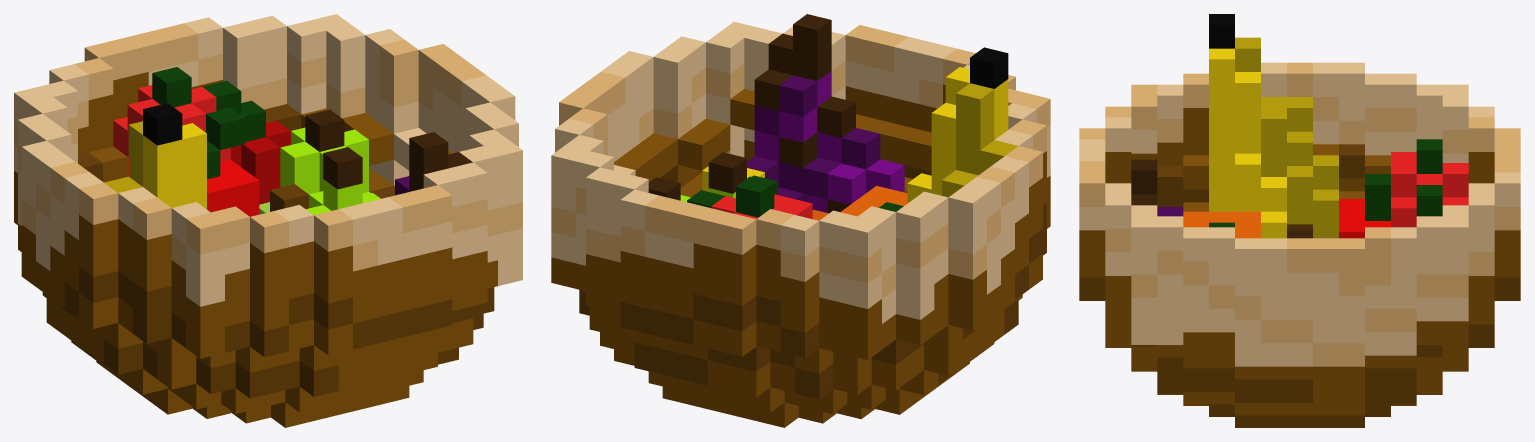
The model's file is Fruit Bowl.obj.
3 views of the same model, side by side, from view 1: azimuth 30°, elevation 25°; view 2: azimuth 150°, elevation 25°; view 3: azimuth 270°, elevation 25° (orthographic). The views are drawn at different scales.
Bounding box in the file's own units: 1.7 × 1.2 × 1.7.
Materials: 1 (1 with a texture image).
